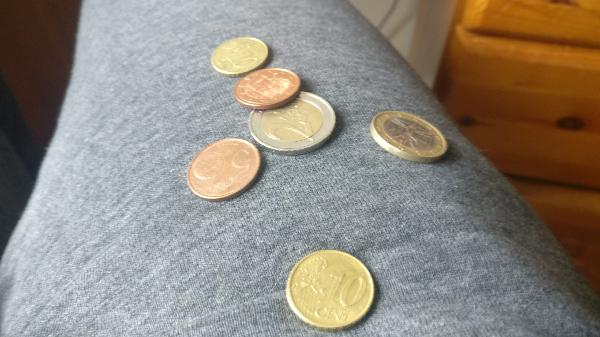Five Cent: (185, 137, 260, 198), (234, 69, 301, 109)
One Euro: (361, 105, 450, 163)
Ten Cent: (285, 247, 380, 325), (210, 36, 270, 74)
Two Euro: (243, 89, 336, 152)
